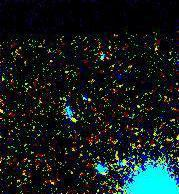star: (62, 105, 92, 135)
